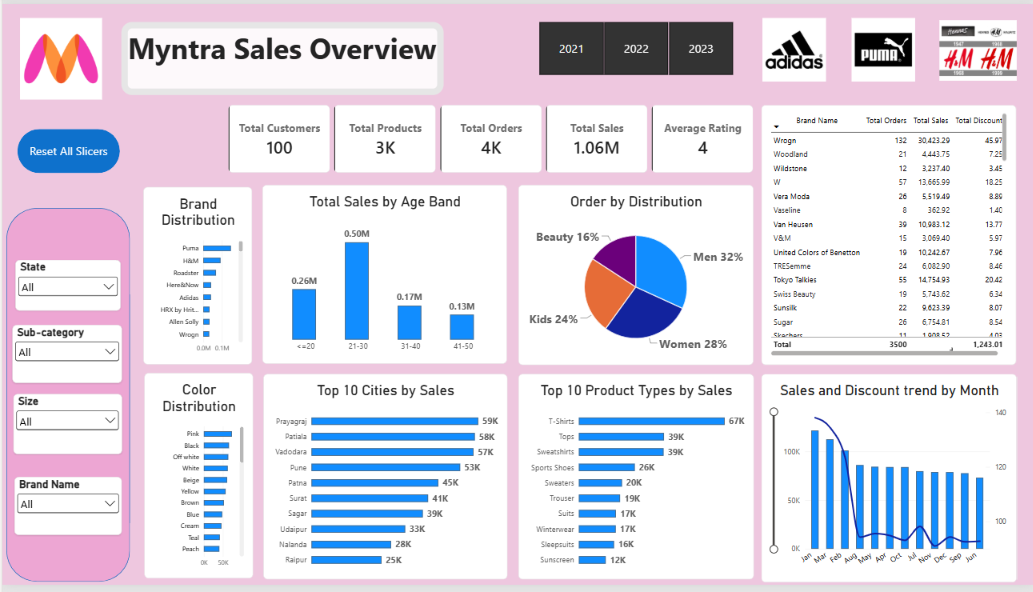

This screenshot's page, from the dashboard's own definition file:
{"tool":"powerbi","page":{"name":"Myntra Sales Overview","canvas":[1920,1080],"ordinal":0},"visuals":[{"type":"shape","box":[7.5,380,230,696],"z":0},{"type":"textbox","box":[222,33,600,136],"z":1000},{"type":"image","box":[0,26.8,218.2,152.3],"z":2000},{"type":"slicer","fields":{"Values":["DateTable.Year"]},"box":[980,32.5,400,102],"z":3000},{"type":"cardVisual","fields":{"Data":["dim_customers.Total Customers","dim_products.Total Products","fact_orders.Total Orders","fact_orders.Total Price","dim_products.Average Rating"]},"box":[420,188.6,978,126],"z":4000},{"type":"pieChart","title":"Order by Distribution","fields":{"Category":["dim_products.Category"],"Y":["fact_orders.Total Sales"]},"box":[960,337.5,437.5,335],"z":5000},{"type":"clusteredBarChart","title":"Top 10 Cities by Sales","fields":{"Category":["dim_customers.City"],"Y":["fact_orders.Total Sales"]},"box":[486,688,454,382],"z":6000},{"type":"clusteredBarChart","title":"Top 10 Product Types by Sales","fields":{"Category":["dim_products.Product Name"],"Y":["fact_orders.Total Sales"]},"box":[960,688,438,382],"z":7000},{"type":"columnChart","title":"Total Sales by Age Band","fields":{"Category":["dim_customers.Age Band"],"Y":["fact_orders.Total Sales"]},"box":[485,337.5,455,332.5],"z":8000},{"type":"slicer","fields":{"Values":["dim_customers.State"]},"box":[25,477.5,196,94],"z":9000},{"type":"slicer","fields":{"Values":["dim_products.Brand Name"]},"box":[22,880,200,108],"z":10000},{"type":"slicer","fields":{"Values":["dim_products.Sub-category"]},"box":[18,598,204,108],"z":11000},{"type":"slicer","fields":{"Values":["dim_products.Size"]},"box":[20,726,202,112],"z":12000},{"type":"tableEx","fields":{"Values":["dim_products.Brand Name","fact_orders.Total Orders","select","fact_orders.Total Sales","fact_orders.Total Discount"]},"box":[1414,188,474,484],"z":13000},{"type":"clusteredBarChart","title":"Color Distribution","fields":{"Category":["dim_products.Color"],"Y":["fact_orders.Total Sales"]},"box":[265,687.5,202.5,382.5],"z":14000},{"type":"clusteredBarChart","title":"Brand Distribution","fields":{"Category":["dim_products.Brand Name"],"Y":["fact_orders.Total Sales"]},"box":[262.5,340,202.5,330],"z":15000},{"type":"lineStackedColumnComboChart","title":"Sales and Discount trend by Month","fields":{"Category":["DateTable.Month"],"Y":["fact_orders.Total Sales"],"Y2":["fact_orders.Total Discount"]},"box":[1413.3,688.3,475,388.3],"z":16000},{"type":"image","box":[1398,26,152,118],"z":17000},{"type":"image","box":[1550,26,182,118],"z":18000},{"type":"image","box":[1744,20,144,132],"z":19000},{"type":"actionButton","box":[27.9,232.7,190.9,82.4],"z":19001}]}

Visuals, with their boxes in screenshot pixels (x1, y1, x2, y2), scaled from the page's 1920x1080 canvas onto the 1033x592 screenshot:
shape: box(4, 208, 128, 590)
textbox: box(119, 18, 442, 93)
image: box(0, 15, 117, 98)
slicer - DateTable.Year: box(527, 18, 742, 74)
cardVisual - dim_customers.Total Customers x dim_products.Total Products: box(226, 103, 752, 172)
"Order by Distribution" pieChart: box(516, 185, 752, 369)
"Top 10 Cities by Sales" clusteredBarChart: box(261, 377, 506, 587)
"Top 10 Product Types by Sales" clusteredBarChart: box(516, 377, 752, 587)
"Total Sales by Age Band" columnChart: box(261, 185, 506, 367)
slicer - dim_customers.State: box(13, 262, 119, 313)
slicer - dim_products.Brand Name: box(12, 482, 119, 542)
slicer - dim_products.Sub-category: box(10, 328, 119, 387)
slicer - dim_products.Size: box(11, 398, 119, 459)
tableEx - dim_products.Brand Name x fact_orders.Total Orders: box(761, 103, 1016, 368)
"Color Distribution" clusteredBarChart: box(143, 377, 252, 587)
"Brand Distribution" clusteredBarChart: box(141, 186, 250, 367)
"Sales and Discount trend by Month" lineStackedColumnComboChart: box(760, 377, 1016, 590)
image: box(752, 14, 834, 79)
image: box(834, 14, 932, 79)
image: box(938, 11, 1016, 83)
actionButton: box(15, 128, 118, 173)
